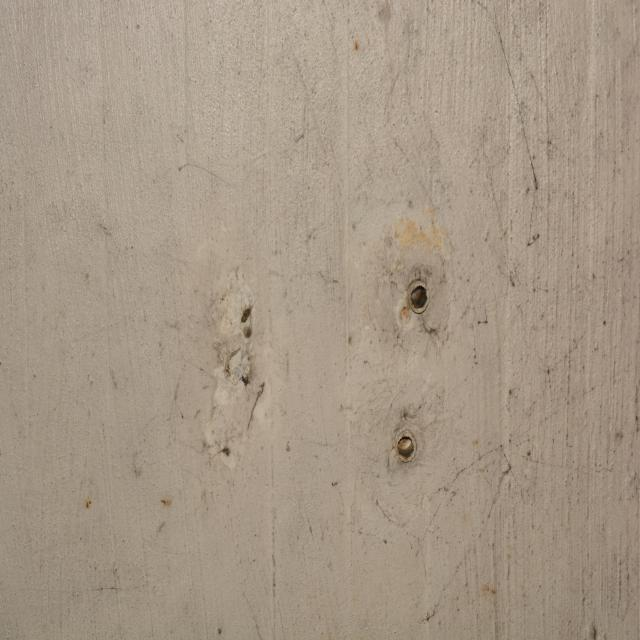corrosion: (398, 282, 431, 324), (396, 434, 415, 464)
